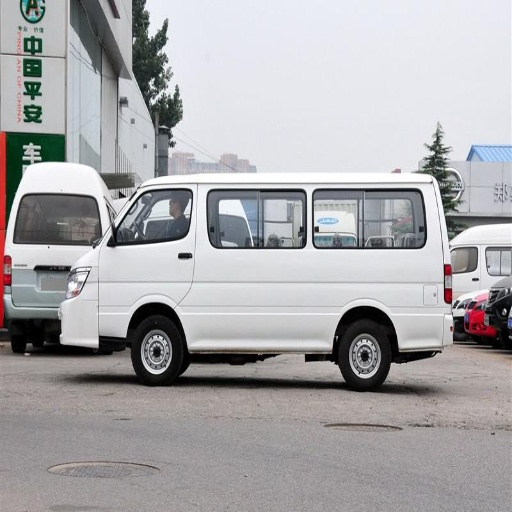back_glass: (16, 195, 86, 241)
back_left_door: (279, 291, 313, 336)
trunk: (317, 253, 452, 347), (10, 245, 81, 313)
